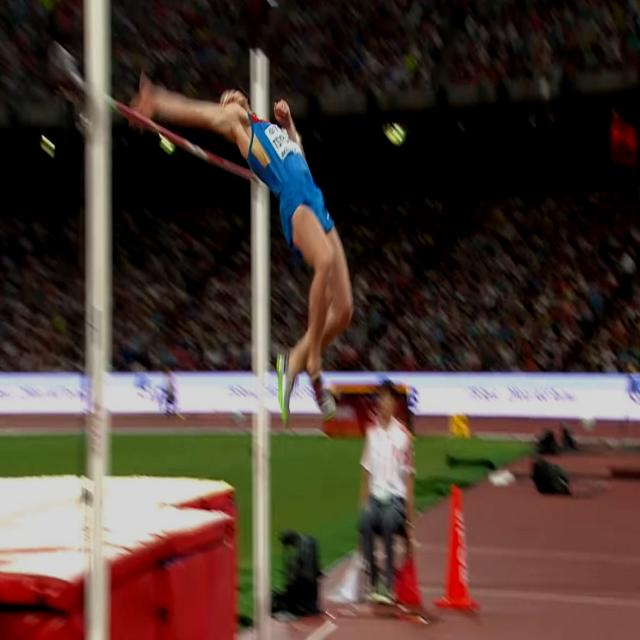jump: (130, 67, 353, 416)
